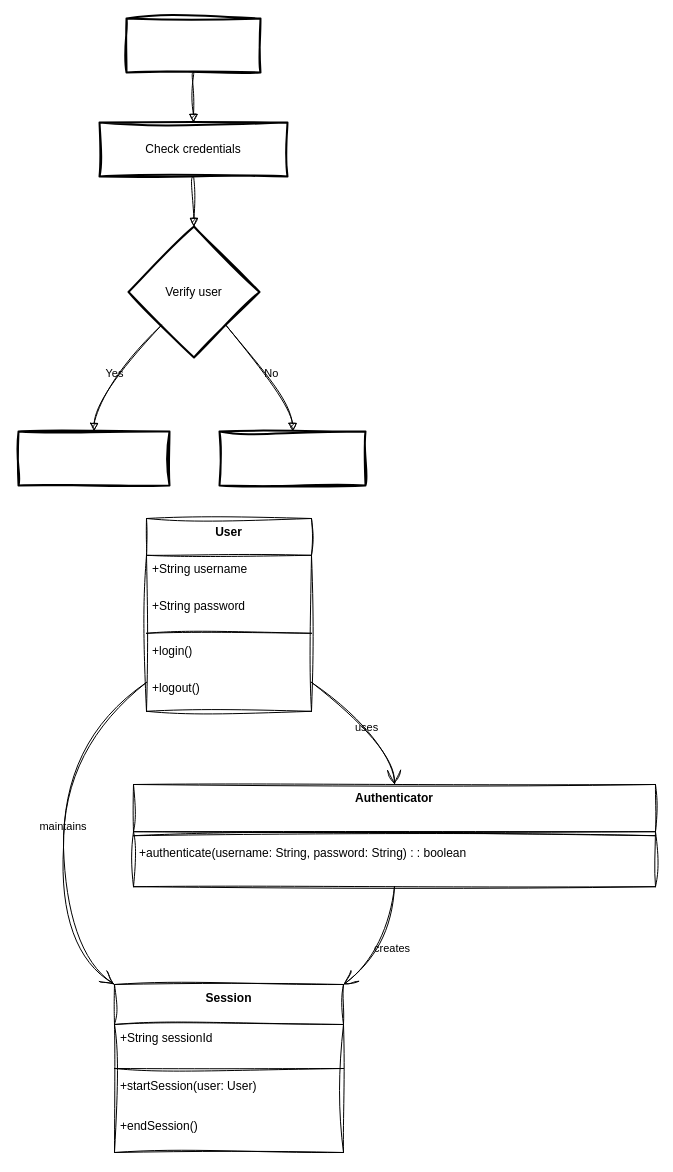
The diagram is 673 pixels wide and 1172 high, and some of its shapes have lost their labels. Here are the shapes that lost their labels. From the top down, the centre of each, then its label:
At pixel 193 45: "User input".
At pixel 93 458: "Grant access".
At pixel 292 458: "Deny access".
